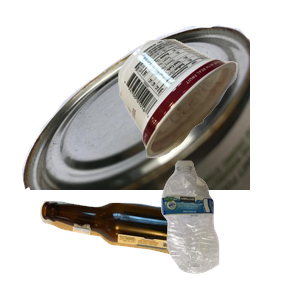glass: (37, 198, 236, 300)
metal: (19, 22, 259, 202)
plastic: (159, 158, 300, 300)
trash: (116, 36, 300, 187)
